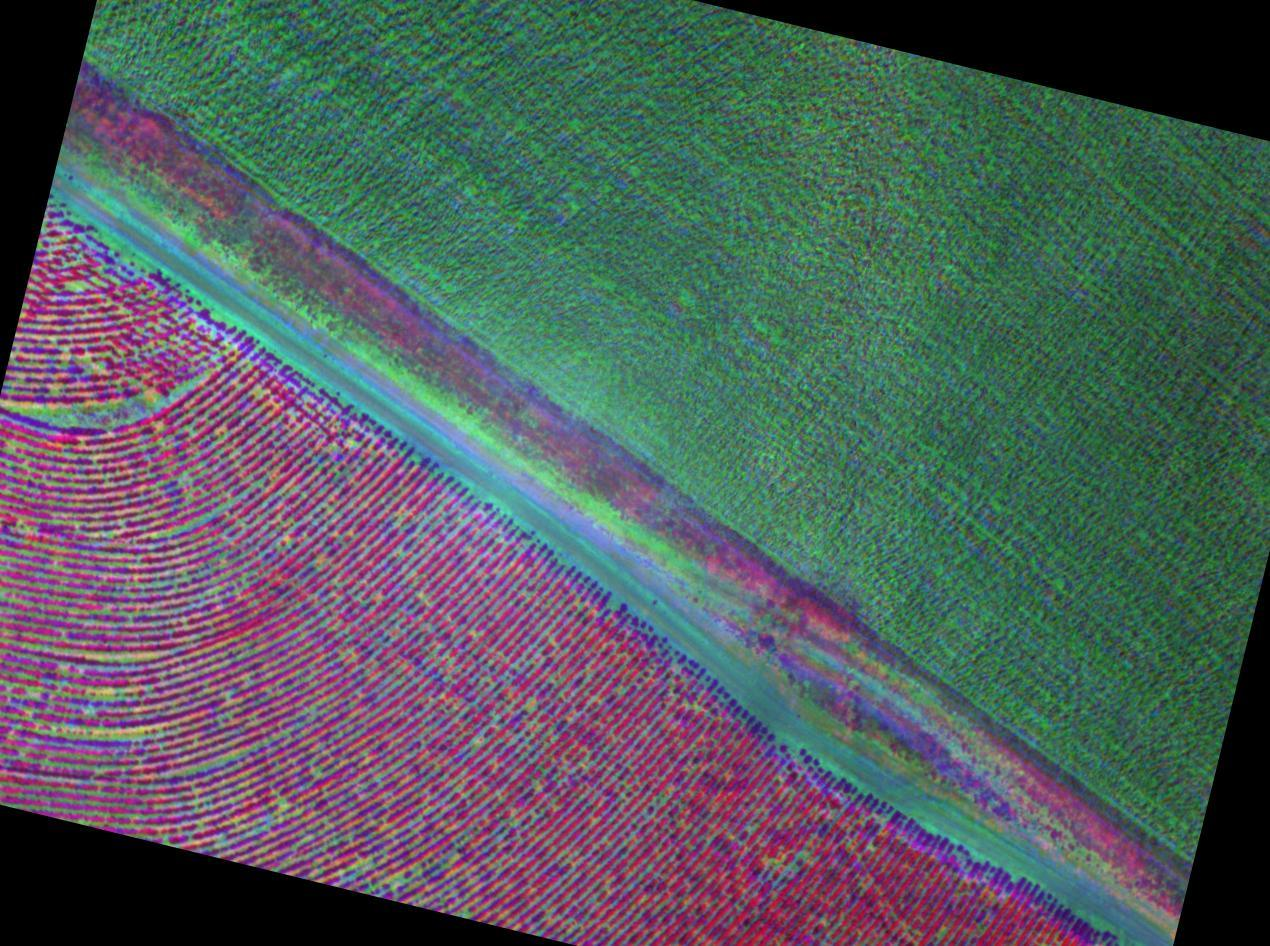dc: (16, 658, 150, 754), (1, 385, 219, 434), (138, 488, 266, 546), (336, 838, 434, 902)
